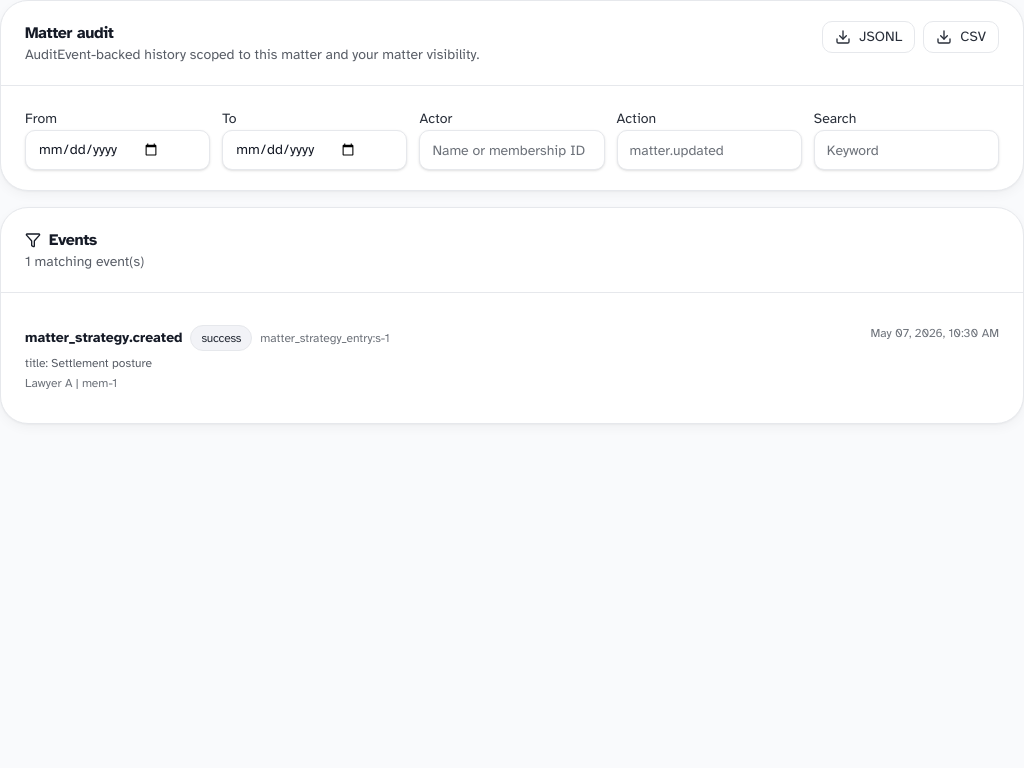
it: MatterAuditPage › renders audit events with actor metadata and empty state
Expected: the text "matter_strategy.created" is shown, x1=25 y1=328 x2=182 y2=348
Expected: the text "title: Settlement posture" is shown, x1=25 y1=356 x2=152 y2=370
Type "missing" into the field with test id "audit-filter-keyword". click: (906, 150)
box: x1=814 y1=130 x2=999 y2=170
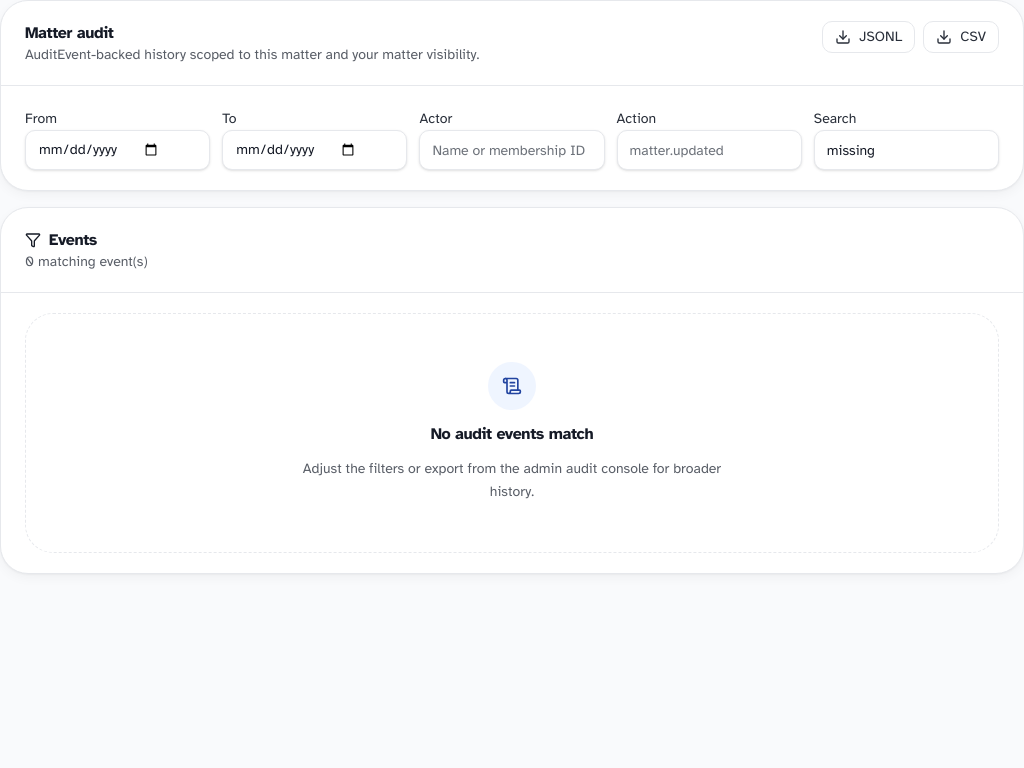
Expected: the heading "No audit events match" is shown, x1=431 y1=422 x2=593 y2=446
